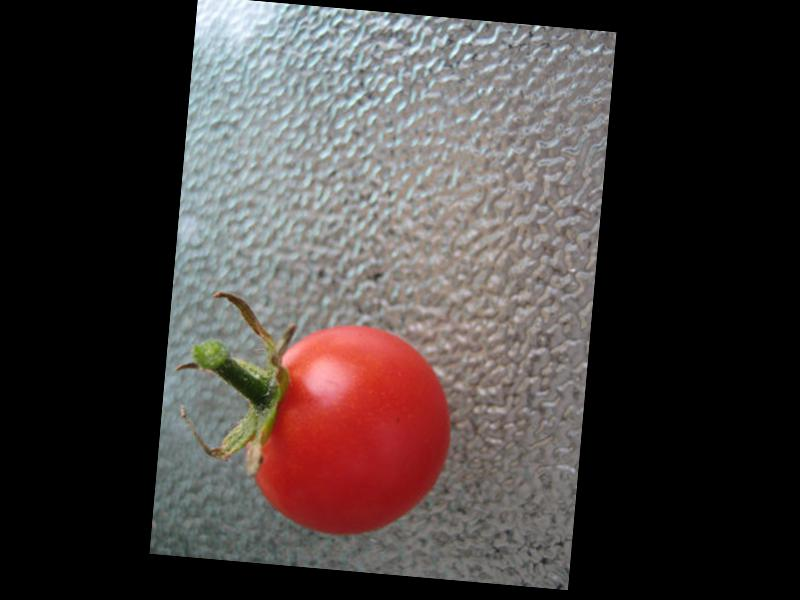Tomato: (249, 314, 460, 542)
